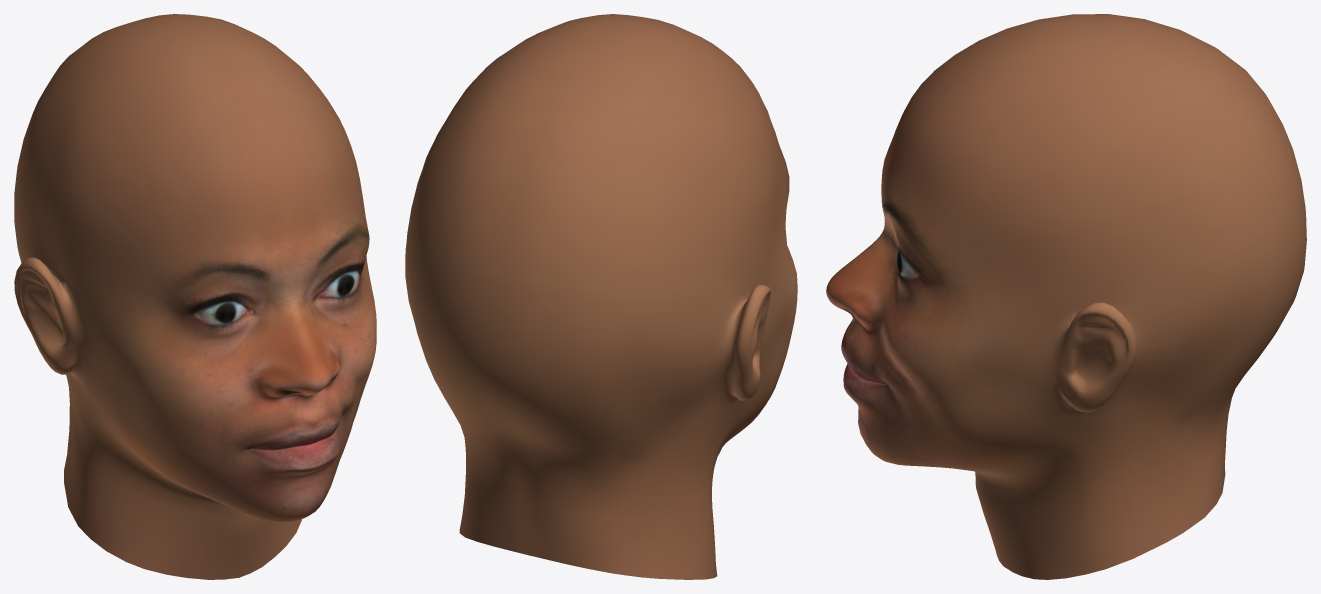
Rendered from v332_obj_ExpressionDimpleLeft.obj.
3 views of the same model, side by side, from view 1: azimuth 30°, elevation 25°; view 2: azimuth 150°, elevation 25°; view 3: azimuth 270°, elevation 25° (orthographic). The views are drawn at different scales.
Parts seen in each view (by area): view 1: HeadHires; view 2: HeadHires; view 3: HeadHires.
Part boxes in pixels (x1,y1,x2,y2): HeadHires: (14, 14, 376, 579); HeadHires: (405, 14, 797, 579); HeadHires: (826, 14, 1306, 579).
Size of the model in its own units: 187 by 282 by 233.
